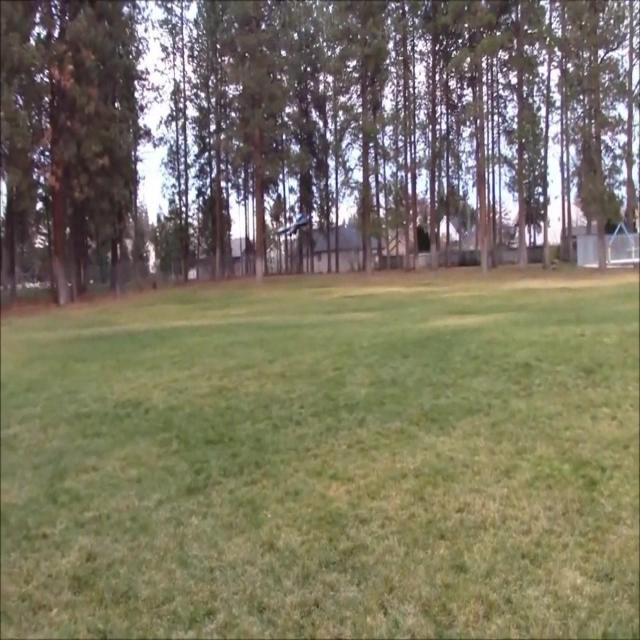UAV: (276, 214, 314, 238)
